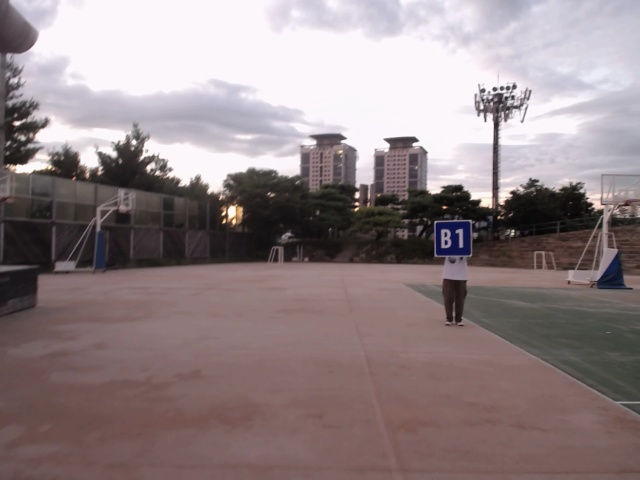delivery_b1: (434, 222, 472, 256)
